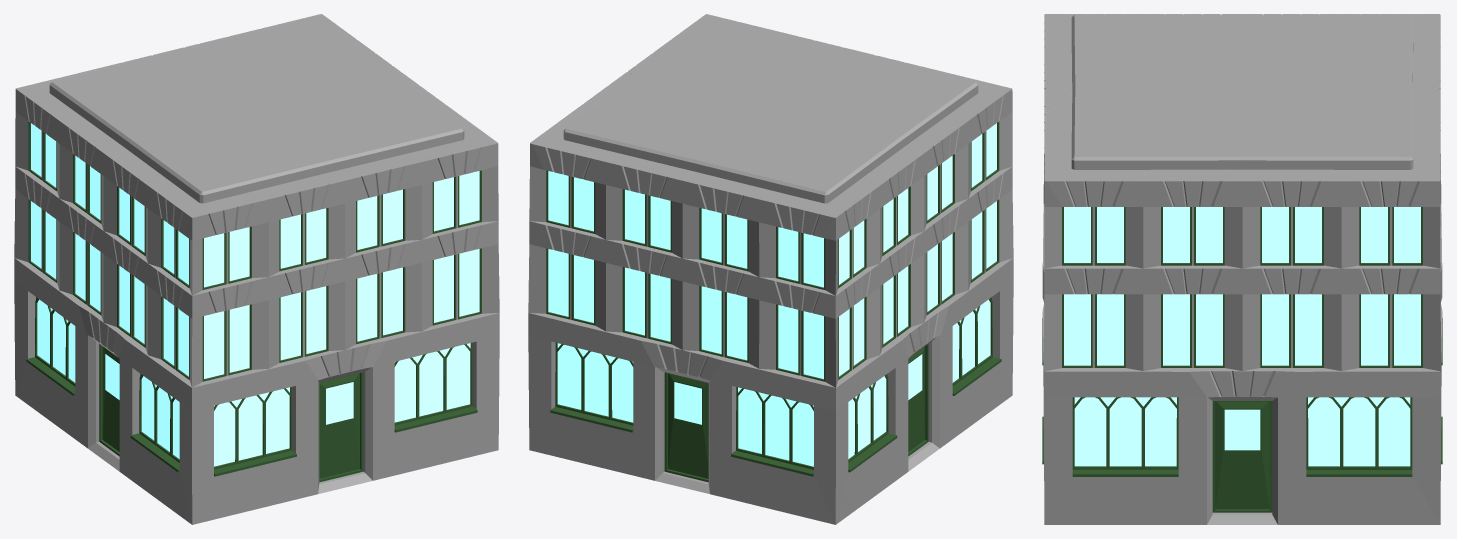
Rendered from buildings_07.fbx.
3 views of the same model, side by side, from view 1: azimuth 30°, elevation 25°; view 2: azimuth 150°, elevation 25°; view 3: azimuth 270°, elevation 25° (orthographic). The views are drawn at different scales.
Visible parts, largest first — view 1: building_007; view 2: building_007; view 3: building_007.
Boxes of the visible parts, x1=… form: building_007: x1=14, y1=14, x2=499, y2=524; building_007: x1=528, y1=14, x2=1013, y2=524; building_007: x1=1042, y1=14, x2=1442, y2=524.
Bounding box in the file's own units: 170 × 166 × 170.
